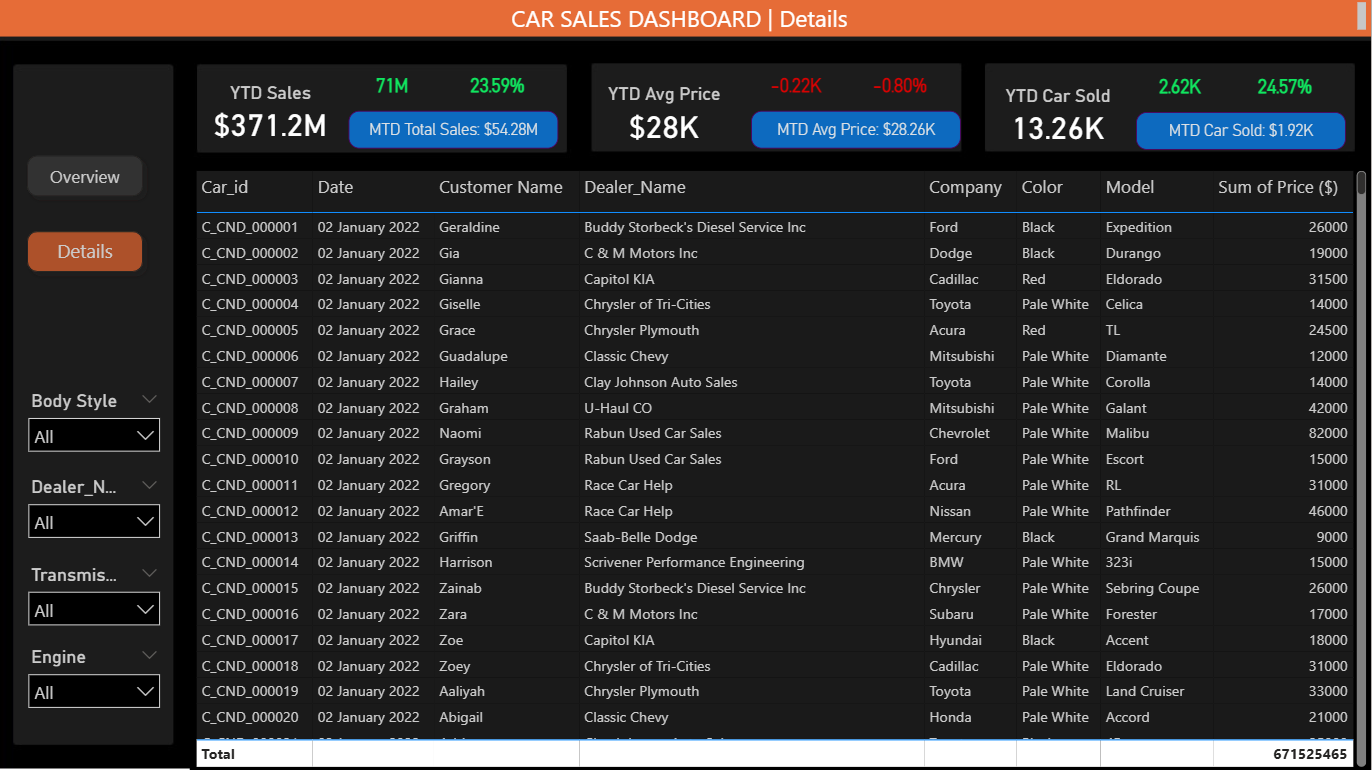

What the dashboard file says about the page in this screenshot:
{"tool":"powerbi","page":{"name":"Details","canvas":[1280,720],"ordinal":1},"visuals":[{"type":"card","title":"YTD Sales","fields":{"Values":["Measure_Tbl.YTD Sales"]},"box":[188.7,79.4,134,58.5],"z":0},{"type":"card","fields":{"Values":["Measure_Tbl.MTD_txt"]},"box":[327.9,105.4,195.2,35.1],"z":1000},{"type":"card","fields":{"Values":["Measure_Tbl.Diff as Prev Year"]},"box":[327.9,63.8,80.7,35.1],"z":2000},{"type":"card","fields":{"Values":["Measure_Tbl.YOY Total Sales %"]},"box":[425.5,63.8,80.7,35.1],"z":3000},{"type":"card","title":"YTD Avg Price","fields":{"Values":["Measure_Tbl.Avg Price YTD"]},"box":[554.3,80.7,134,58.5],"z":4000},{"type":"card","fields":{"Values":["Measure_Tbl.Avg Price Diff"]},"box":[703.9,63.8,80.7,35.1],"z":5000},{"type":"card","fields":{"Values":["Measure_Tbl.Avg YOY"]},"box":[800.2,63.8,80.7,35.1],"z":6000},{"type":"card","fields":{"Values":["Measure_Tbl.Avg MTD_txt"]},"box":[702.6,105.4,195.2,35.1],"z":7000},{"type":"card","title":"YTD Car Sold","fields":{"Values":["Measure_Tbl.YTD Car"]},"box":[921,81,134,58.5],"z":8000},{"type":"card","fields":{"Values":["Measure_Tbl.MTD_txt Car"]},"box":[1060.2,107.1,195.2,35.1],"z":9000},{"type":"card","fields":{"Values":["Measure_Tbl.Car Diff"]},"box":[1060.2,65.4,80.7,35.1],"z":10000},{"type":"card","fields":{"Values":["Measure_Tbl.YOY Car Sold %"]},"box":[1157.8,65.4,80.7,35.1],"z":11000},{"type":"textbox","box":[0,0,1279.8,36.8],"z":12000},{"type":"slicer","fields":{"Values":["car_data.Body Style"]},"box":[19.5,360.4,143.1,70.3],"z":13000},{"type":"slicer","fields":{"Values":["car_data.Dealer_Name"]},"box":[19.5,441.1,143.1,70.3],"z":14000},{"type":"slicer","fields":{"Values":["car_data.Transmission"]},"box":[19.5,521.7,143.1,70.3],"z":15000},{"type":"slicer","fields":{"Values":["car_data.Engine"]},"box":[19.5,598.5,143.1,70.3],"z":16000},{"type":"tableEx","fields":{"Values":["car_data.Car_id","car_data.Date","car_data.Customer Name","car_data.Dealer_Name","car_data.Company","car_data.Color","car_data.Model","Sum(car_data.Price ($))"]},"box":[180.3,157.5,1099.7,563.8],"z":17000},{"type":"pageNavigator","box":[19.6,138.7,126.4,126.4],"z":18000}]}

Visuals, with their boxes in screenshot pixels (x1, y1, x2, y2), scaled from the page's 1280x720 canvas onto the 1372x770 screenshot:
"YTD Sales" card: (202, 85, 346, 147)
card - Measure_Tbl.MTD_txt: (351, 113, 561, 150)
card - Measure_Tbl.Diff as Prev Year: (351, 68, 438, 106)
card - Measure_Tbl.YOY Total Sales %: (456, 68, 543, 106)
"YTD Avg Price" card: (594, 86, 738, 149)
card - Measure_Tbl.Avg Price Diff: (754, 68, 841, 106)
card - Measure_Tbl.Avg YOY: (858, 68, 944, 106)
card - Measure_Tbl.Avg MTD_txt: (753, 113, 962, 150)
"YTD Car Sold" card: (987, 87, 1131, 149)
card - Measure_Tbl.MTD_txt Car: (1136, 115, 1346, 152)
card - Measure_Tbl.Car Diff: (1136, 70, 1223, 107)
card - Measure_Tbl.YOY Car Sold %: (1241, 70, 1328, 107)
textbox: (0, 0, 1371, 39)
slicer - car_data.Body Style: (21, 385, 174, 461)
slicer - car_data.Dealer_Name: (21, 472, 174, 547)
slicer - car_data.Transmission: (21, 558, 174, 633)
slicer - car_data.Engine: (21, 640, 174, 715)
tableEx - car_data.Car_id x car_data.Date: (193, 168, 1371, 769)
pageNavigator: (21, 148, 156, 284)
